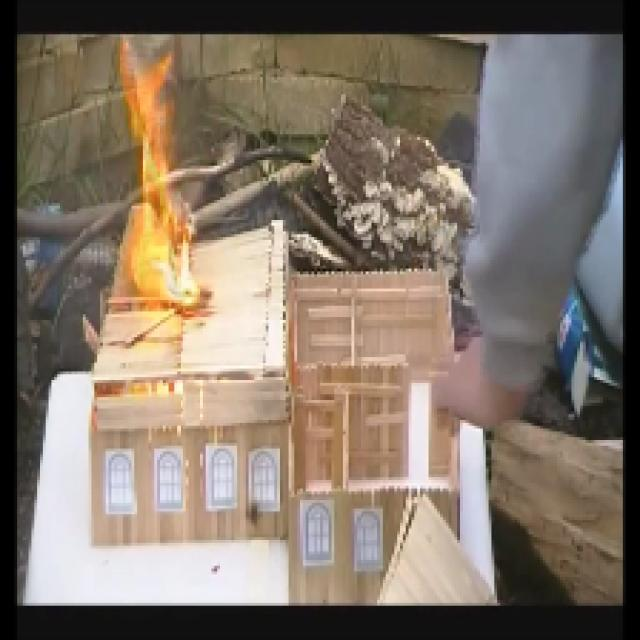fire: (100, 59, 210, 324)
